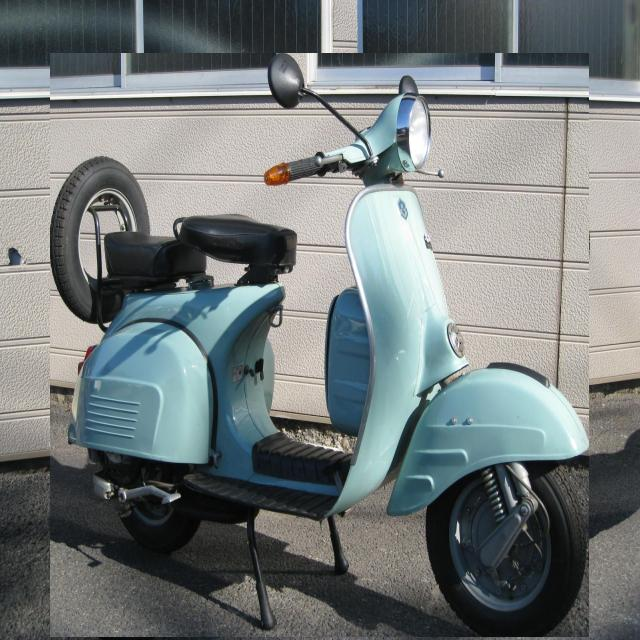motorcycle: (50, 53, 589, 637)
